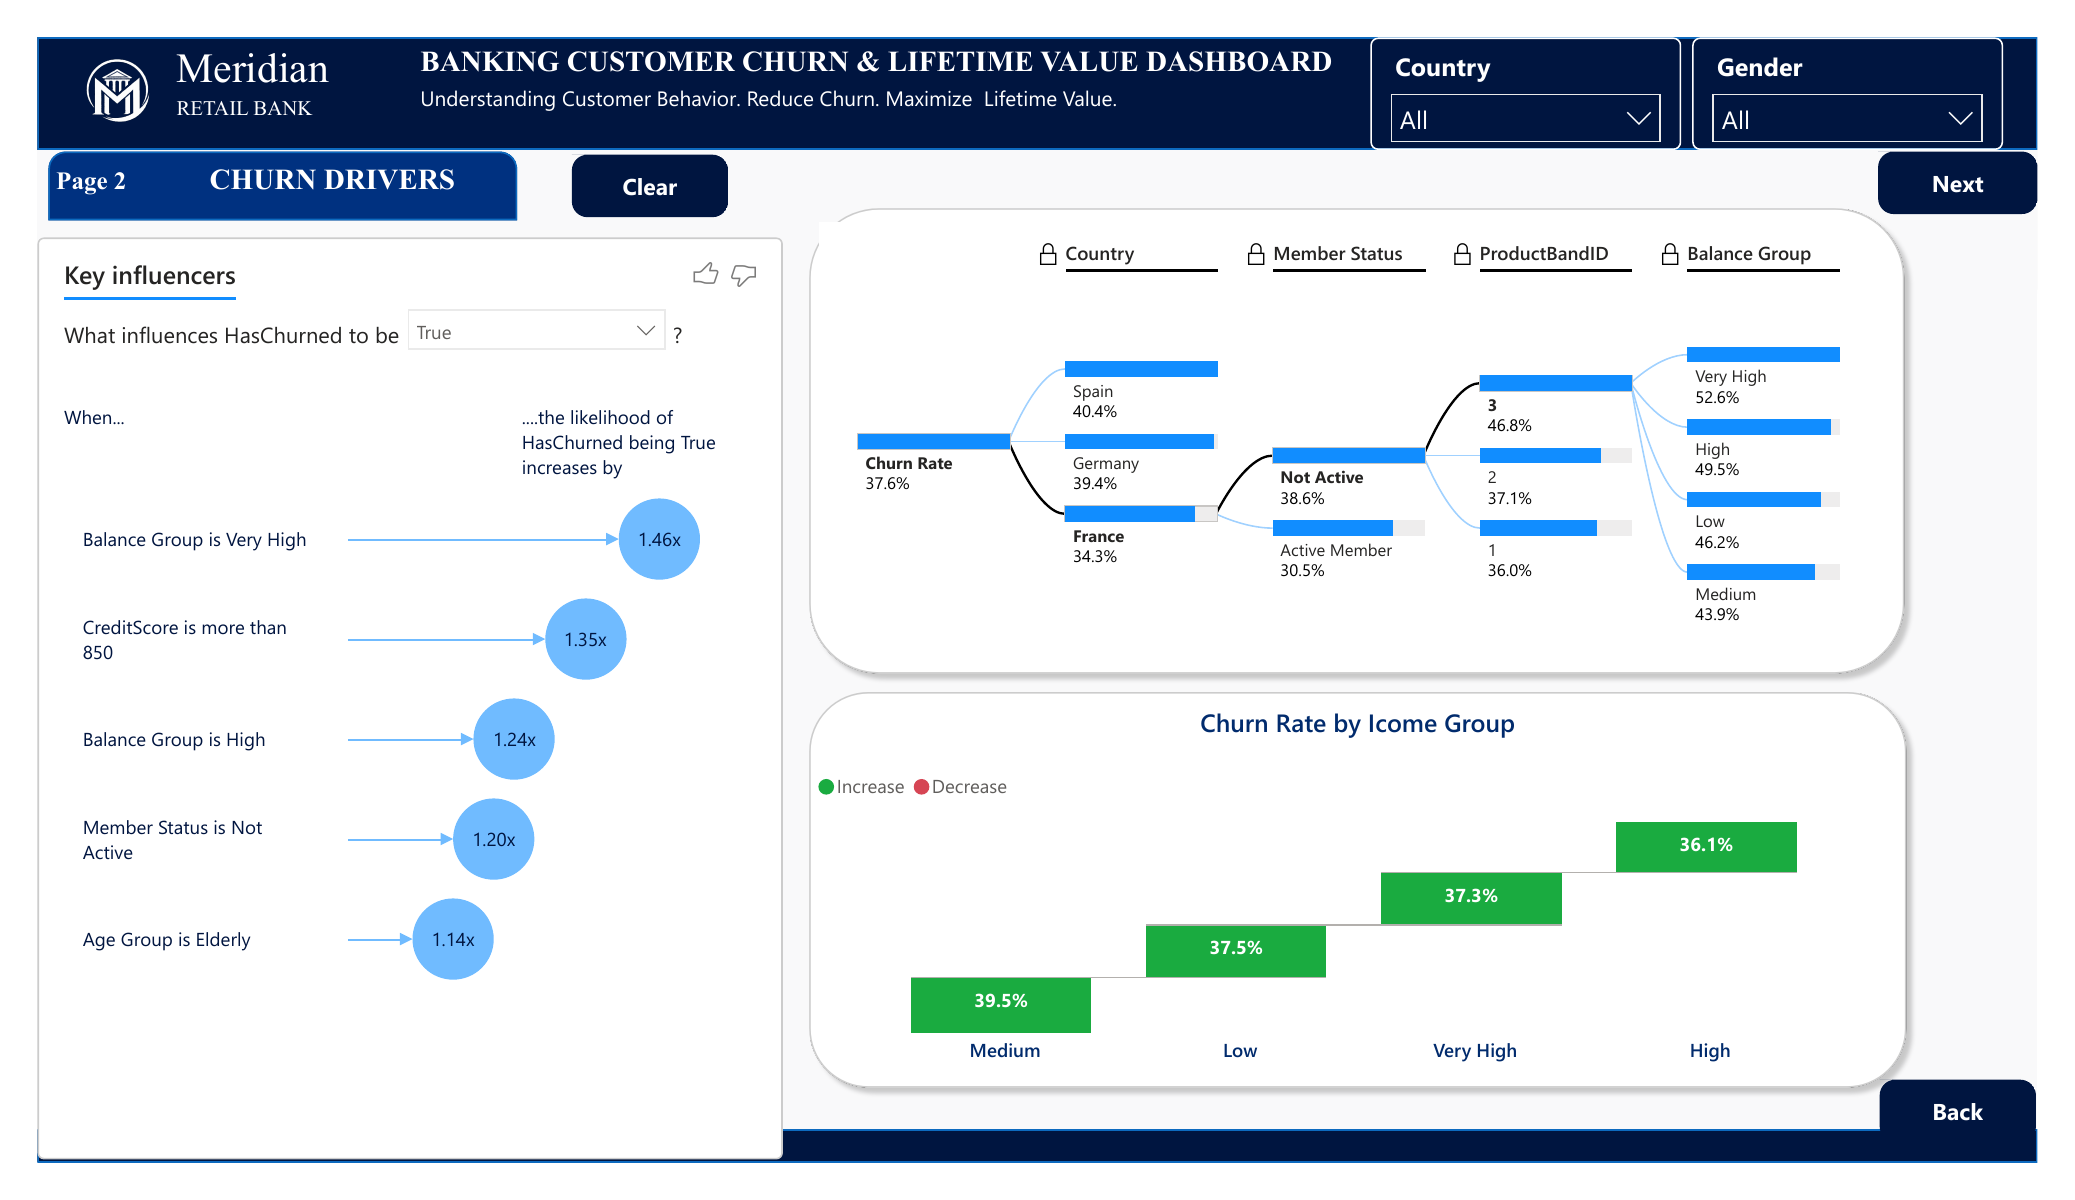

What the dashboard file says about the page in this screenshot:
{"tool":"powerbi","page":{"name":"Churn Drivers","canvas":[1280,720],"ordinal":1},"visuals":[{"type":"shape","box":[0,0,1279.7,720],"z":0},{"type":"shape","box":[486.3,101.2,717.3,314.3],"z":0,"group":"g2"},{"type":"shape","box":[0,128.1,477.3,590.1],"z":0,"group":"g1"},{"type":"shape","box":[486.3,411,717.3,268.7],"z":1000},{"type":"shape","box":[0,0,1279.7,71.6],"z":2000},{"type":"shape","box":[7.2,73.4,300,43.9],"z":3000},{"type":"textbox","box":[7.2,73.4,300,41.2],"z":4000},{"type":"textbox","box":[240,0,613.4,35.8],"z":7000},{"type":"textbox","box":[240,25.1,615.2,35.8],"z":8000},{"type":"image","box":[0,0,102.1,71.6],"z":9000},{"type":"textbox","box":[84.2,0,130.7,71.6],"z":10000},{"type":"shape","box":[0,698.5,1279.7,21.5],"z":11000},{"type":"actionButton","box":[1177.6,72.5,102.1,40.3],"z":12000},{"type":"actionButton","box":[342.1,75.2,100,40],"z":13000},{"type":"actionButton","box":[1179.4,667.2,100,40],"z":14000},{"type":"group","id":"g1","title":"Group 2","box":[0,128.1,477.3,590.1],"z":16000},{"type":"group","id":"g2","title":"Group 2","box":[486.3,101.2,717.3,314.3],"z":17000},{"type":"keyDriversVisual","fields":{"ExplainBy":["FactCustomer.Age Group","FactCustomer.CreditScore","FactCustomer.Balance Group","FactCustomer.Member Status"],"Target":["FactCustomer.HasChurned"]},"box":[0,128.1,477.3,591.9],"z":18000},{"type":"decompositionTreeVisual","fields":{"Analyze":["All Dax.Churn Rate"],"ExplainBy":["DimGeography.Country","FactCustomer.Member Status","DimProductBand.ProductBandID","FactCustomer.Balance Group"]},"box":[495.2,112.8,682.4,291],"z":19000},{"type":"waterfallChart","fields":{"Category":["FactCustomer.Icome Group"],"Y":["All Dax.Churn Rate"]},"box":[494.3,422.7,701.2,244.5],"z":19500},{"type":"slicer","fields":{"Values":["DimGender.Gender"]},"box":[1058.9,0,199,71.7],"z":19501},{"type":"slicer","fields":{"Values":["DimGeography.Country"]},"box":[853.4,0,198.8,71.6],"z":19502}]}

Visuals, with their boxes on the page's 1280x720 design canvas (x1, y1, x2, y2). These are canvas units, not pixel positions in the 2075x1200 screenshot, which may show the page scaled, cropped or inside an application window:
shape: bbox=(0, 0, 1280, 720)
shape: bbox=(486, 101, 1204, 416)
shape: bbox=(0, 128, 477, 718)
shape: bbox=(486, 411, 1204, 680)
shape: bbox=(0, 0, 1280, 72)
shape: bbox=(7, 73, 307, 117)
textbox: bbox=(7, 73, 307, 115)
textbox: bbox=(240, 0, 853, 36)
textbox: bbox=(240, 25, 855, 61)
image: bbox=(0, 0, 102, 72)
textbox: bbox=(84, 0, 215, 72)
shape: bbox=(0, 698, 1280, 720)
actionButton: bbox=(1178, 72, 1280, 113)
actionButton: bbox=(342, 75, 442, 115)
actionButton: bbox=(1179, 667, 1279, 707)
"Group 2" group: bbox=(0, 128, 477, 718)
"Group 2" group: bbox=(486, 101, 1204, 416)
keyDriversVisual - FactCustomer.Age Group x FactCustomer.CreditScore: bbox=(0, 128, 477, 720)
decompositionTreeVisual - All Dax.Churn Rate x DimGeography.Country: bbox=(495, 113, 1178, 404)
waterfallChart - FactCustomer.Icome Group x All Dax.Churn Rate: bbox=(494, 423, 1196, 667)
slicer - DimGender.Gender: bbox=(1059, 0, 1258, 72)
slicer - DimGeography.Country: bbox=(853, 0, 1052, 72)
